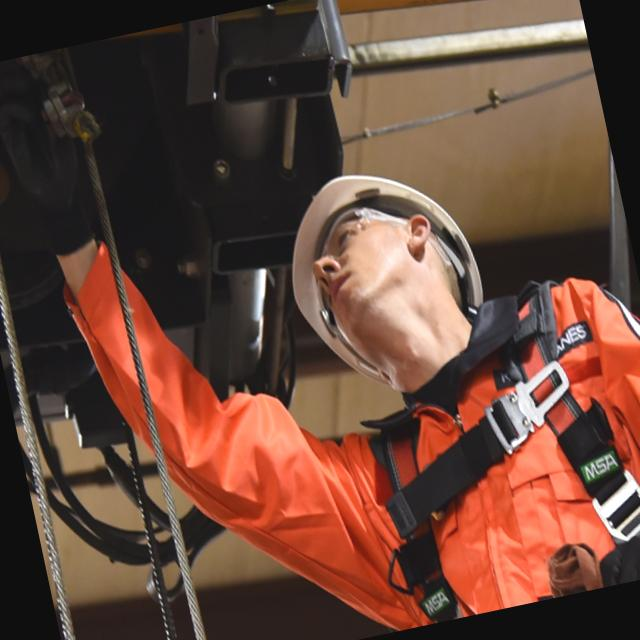goggles: (287, 180, 477, 390)
helmet: (254, 135, 508, 404)
no-vest: (353, 343, 640, 630)
